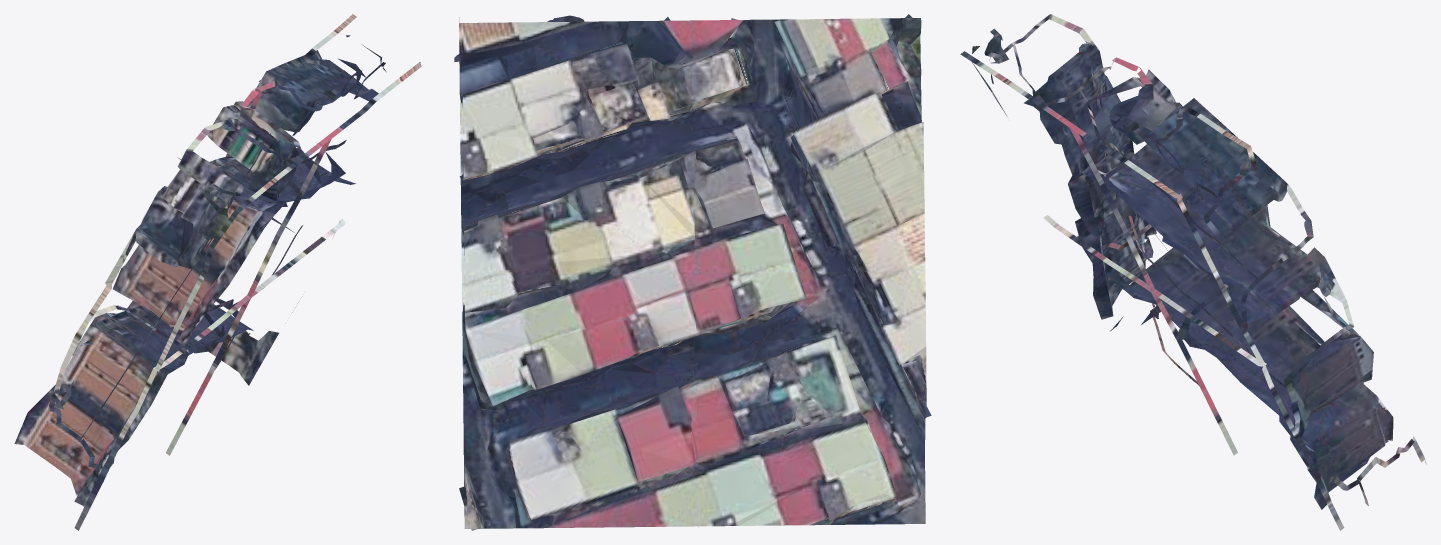
The picture shows the model from 3 angles, left to right: view 1: azimuth 30°, elevation 25°; view 2: azimuth 150°, elevation 25°; view 3: azimuth 270°, elevation 25°; orthographic projection. The views are drawn at different scales.
Bounding box in the file's own units: 79.86 × 76.02 × 78.48.
2 materials, 2 textured.
